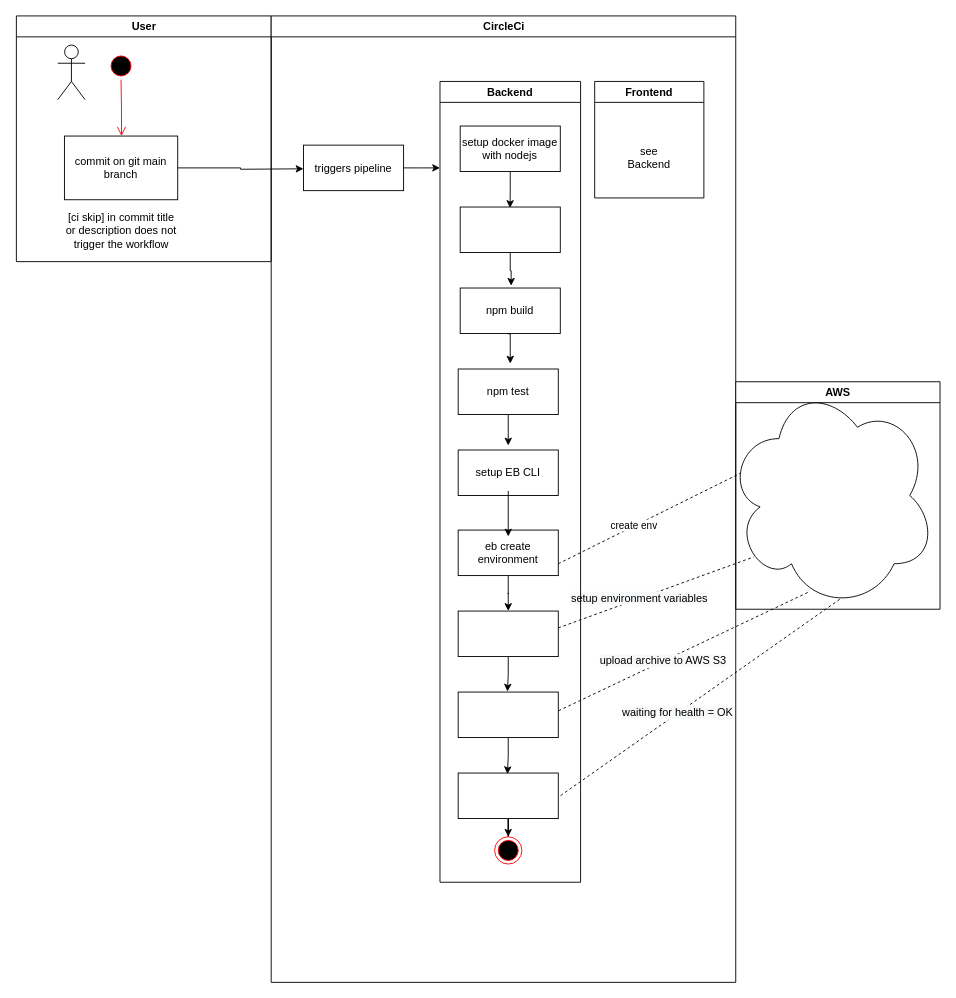
Image size: 956x998. Some labels were removed from this diagram. Here are the shapes that lost their labels. From the top down, the centre of each, then its label:
At [71,72]: "Developer".
At [509,229]: "npm install".
At [831,495]: "Elastic Beanstalk".
At [507,633]: "eb setenv".
At [507,714]: "eb deploy".
At [507,795]: "eb status".
